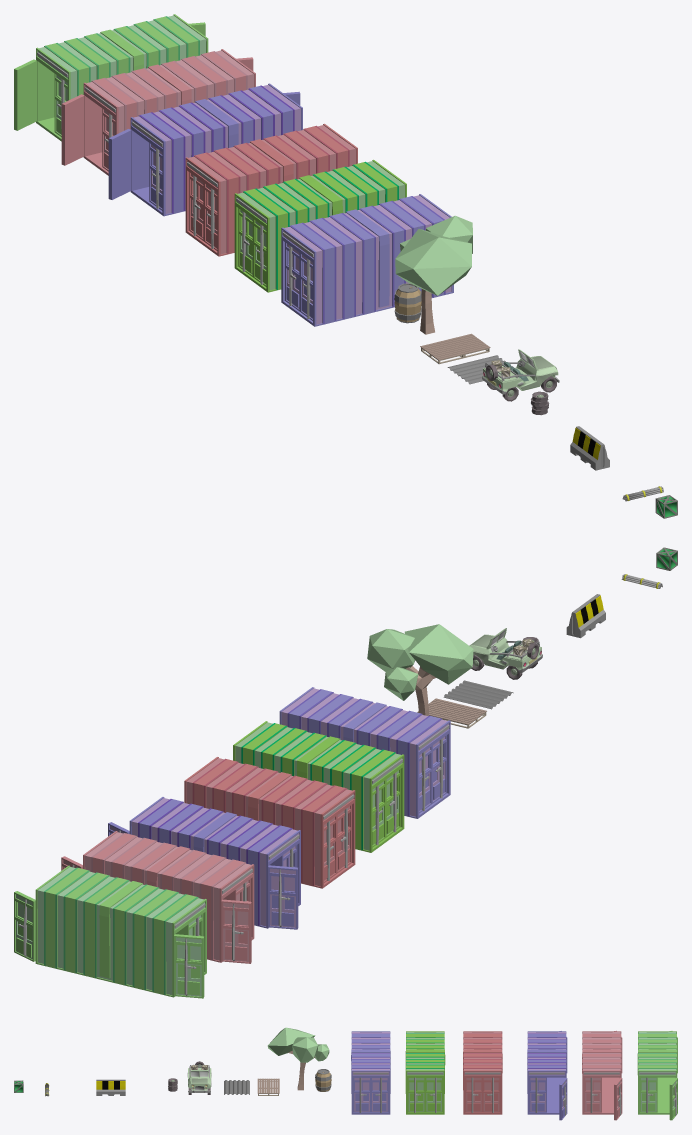
The model's file is Gefixtemodels.fbx.
3 views of the same model, one above another, from view 1: azimuth 30°, elevation 25°; view 2: azimuth 150°, elevation 25°; view 3: azimuth 270°, elevation 25° (orthographic). The views are drawn at different scales.
Parts seen in each view (by area): view 1: Containerblauw., CBO, SGO, CRO, ContainerRood.001, ContainerGroen, Boom1, Jeep01, Pallet, ConcreteBarrier, Ton; view 2: SGO, ContainerRood.001, CRO, CBO, ContainerGroen, Containerblauw., Boom1, Jeep01, IjzerenPlaat, Pallet, ConcreteBarrier; view 3: CBO, CRO, SGO, ContainerRood.001, Containerblauw., ContainerGroen, Boom1, Jeep01, ConcreteBarrier, Pallet, IjzerenPlaat, Ton.
Part boxes in pixels (x1,y1,x2,y2): Containerblauw.: [281, 194, 453, 326]; CBO: [108, 83, 302, 216]; SGO: [14, 14, 208, 141]; CRO: [61, 49, 255, 175]; ContainerRood.001: [185, 123, 357, 256]; ContainerGroen: [234, 159, 406, 292]; Boom1: [395, 215, 472, 334]; Jeep01: [482, 349, 559, 401]; Pallet: [420, 333, 490, 364]; ConcreteBarrier: [570, 426, 609, 470]; Ton: [394, 283, 421, 323]; SGO: [14, 865, 206, 998]; ContainerRood.001: [184, 757, 355, 888]; CRO: [61, 831, 254, 963]; CBO: [108, 797, 300, 929]; ContainerGroen: [233, 721, 404, 852]; Containerblauw.: [279, 687, 450, 818]; Boom1: [367, 624, 473, 715]; Jeep01: [469, 628, 542, 679]; IjzerenPlaat: [443, 680, 513, 709]; Pallet: [417, 698, 486, 728]; ConcreteBarrier: [566, 594, 605, 638]; CBO: [527, 1031, 567, 1120]; CRO: [582, 1030, 622, 1120]; SGO: [637, 1031, 677, 1120]; ContainerRood.001: [463, 1031, 502, 1114]; Containerblauw.: [351, 1031, 390, 1114]; ContainerGroen: [405, 1031, 445, 1114]; Boom1: [267, 1027, 329, 1090]; Jeep01: [187, 1061, 211, 1094]; ConcreteBarrier: [96, 1079, 125, 1095]; Pallet: [257, 1078, 279, 1095]; IjzerenPlaat: [224, 1080, 249, 1094]; Ton: [315, 1069, 331, 1091].
Bounding box in the file's own units: 1151 × 658 × 5941.
